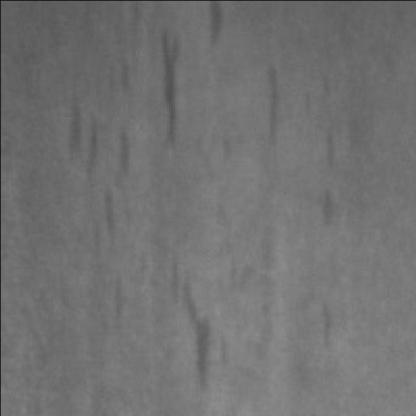inclusion: (54, 96, 137, 266), (166, 262, 246, 389), (147, 19, 196, 156), (254, 54, 291, 154), (204, 0, 235, 52), (316, 293, 341, 352), (323, 114, 347, 173), (321, 181, 344, 227)
